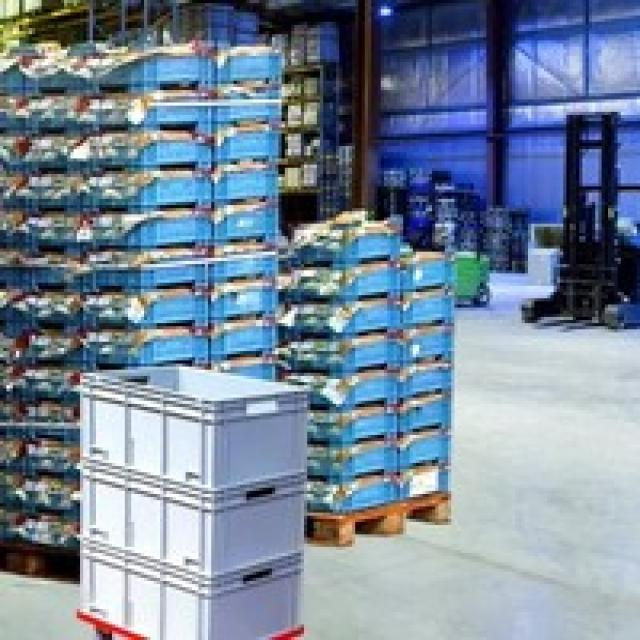basket: (3, 47, 285, 545), (80, 370, 307, 640), (278, 211, 454, 514)
